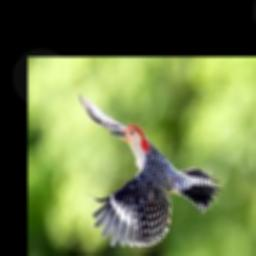Woodpecker: (79, 91, 220, 247)
